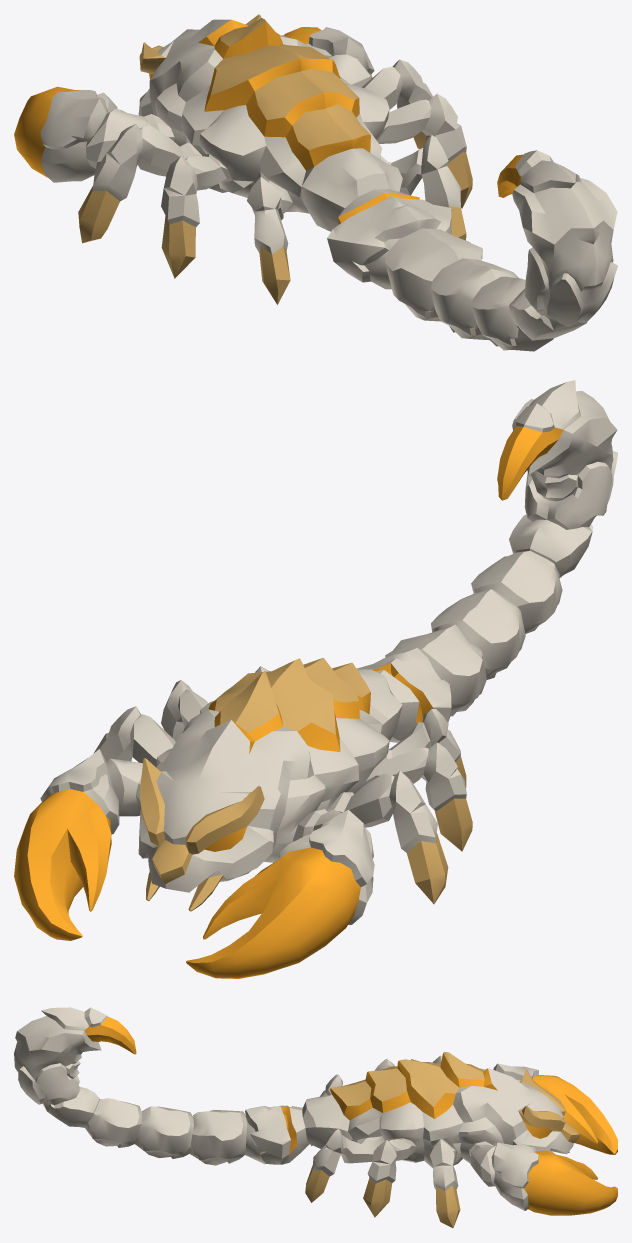
The model's file is AngelTrike.obj.
The picture shows the model from 3 angles, top to bottom: view 1: azimuth 30°, elevation 25°; view 2: azimuth 150°, elevation 25°; view 3: azimuth 270°, elevation 25°; orthographic projection. The views are drawn at different scales.
Visible parts, largest first — view 1: Scorpion_Body, Scorpion_Detail, Scorpion_Neon; view 2: Scorpion_Body, Scorpion_Neon, Scorpion_Detail; view 3: Scorpion_Body, Scorpion_Neon, Scorpion_Detail.
Part boxes in pixels (x1,y1,x2,y2): Scorpion_Body: (40,19,617,351); Scorpion_Detail: (78,14,472,304); Scorpion_Neon: (14,19,522,224); Scorpion_Body: (40,380,617,924); Scorpion_Neon: (14,426,563,978); Scorpion_Detail: (139,658,472,911); Scorpion_Body: (14,1007,573,1210); Scorpion_Neon: (84,1016,617,1215); Scorpion_Detail: (305,1052,579,1227).
Size of the model in its own units: 9.52 by 6.56 by 20.93.
